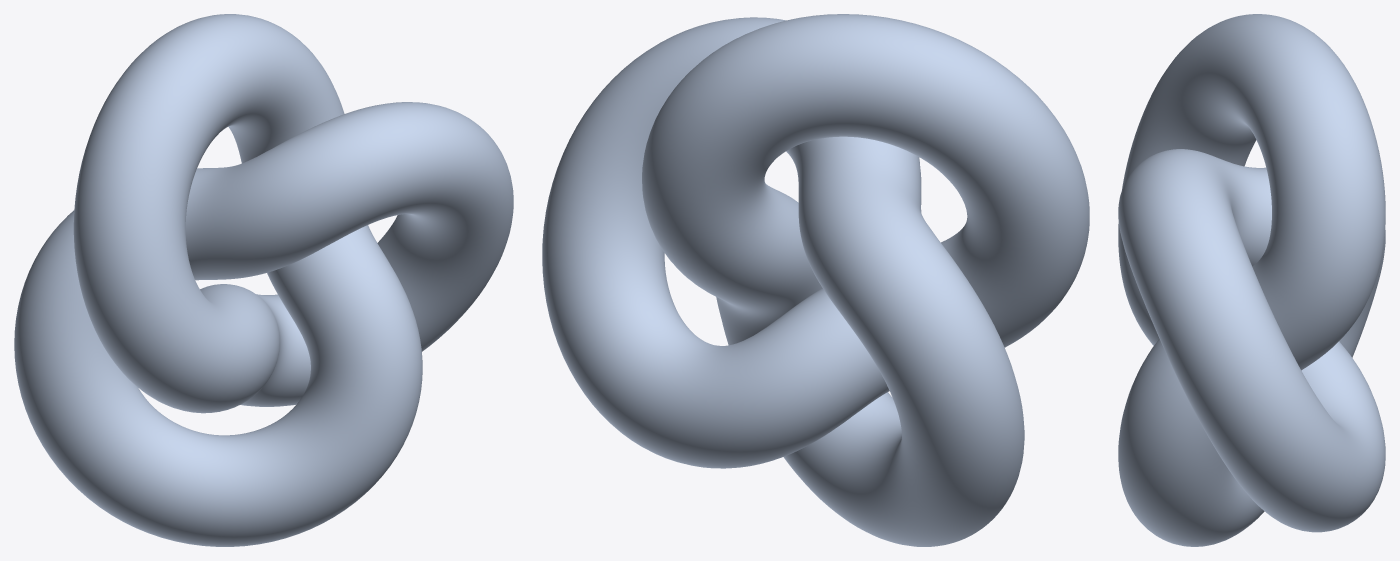
Rendered from knot-silver.glb.
The picture shows the model from 3 angles, left to right: view 1: azimuth 30°, elevation 25°; view 2: azimuth 150°, elevation 25°; view 3: azimuth 270°, elevation 25°; orthographic projection. The views are drawn at different scales.
Visible parts, largest first — view 1: torus_knot; view 2: torus_knot; view 3: torus_knot.
Boxes of the visible parts, <box> form: torus_knot: <box>14,14,513,546</box>; torus_knot: <box>542,14,1089,546</box>; torus_knot: <box>1118,14,1385,546</box>.
Bounding box in the file's own units: 1.71 × 1.78 × 0.8698.
